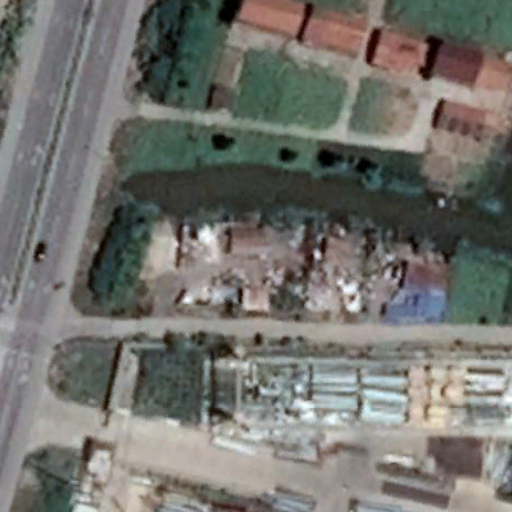msw: (178, 223, 400, 317)
